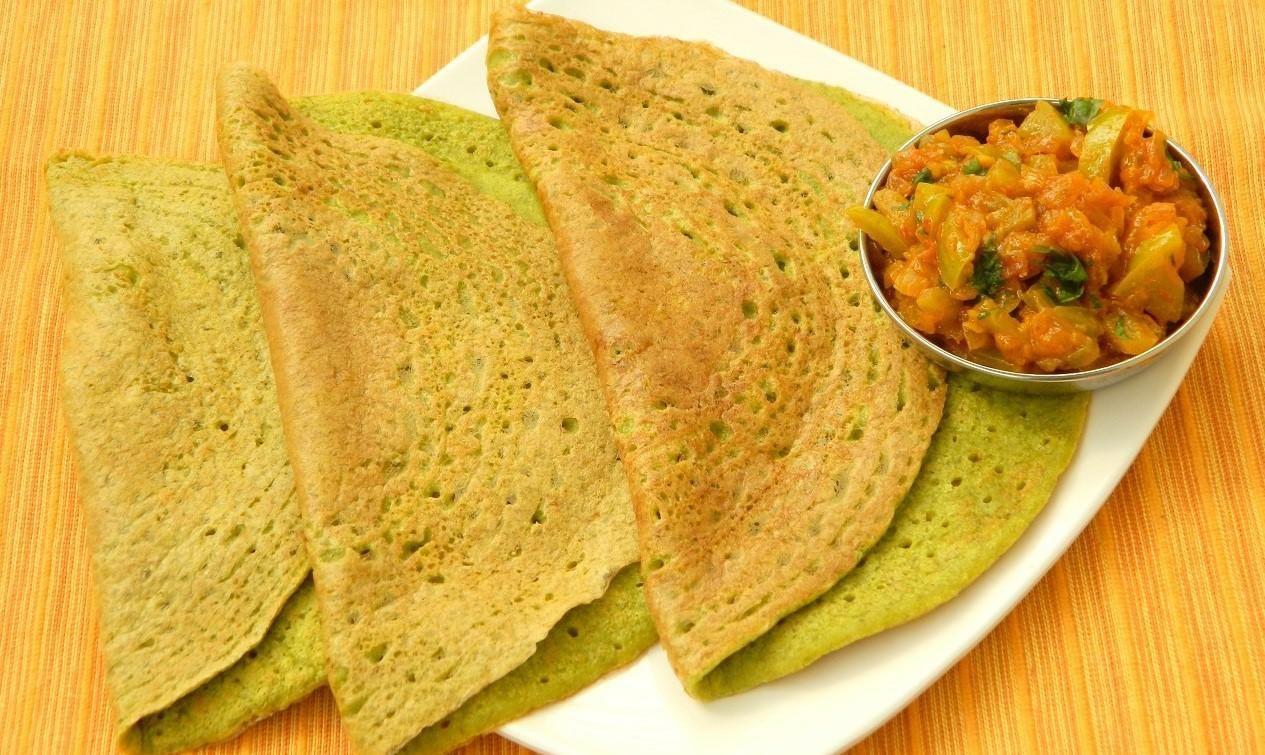Dosa: (486, 0, 1092, 698), (215, 64, 658, 755), (46, 149, 321, 755)
